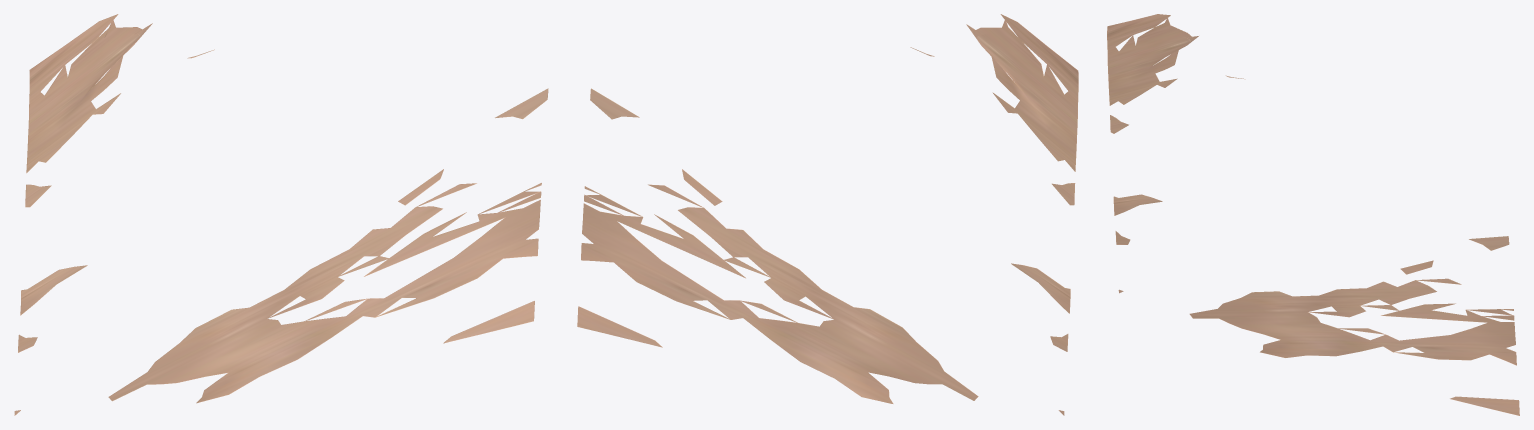
The picture shows the model from 3 angles, left to right: view 1: azimuth 30°, elevation 25°; view 2: azimuth 150°, elevation 25°; view 3: azimuth 330°, elevation 25°; orthographic projection. The views are drawn at different scales.
Bounding box in the file's own units: 27.37 × 21.46 × 1.77.
1 material, 1 textured.
